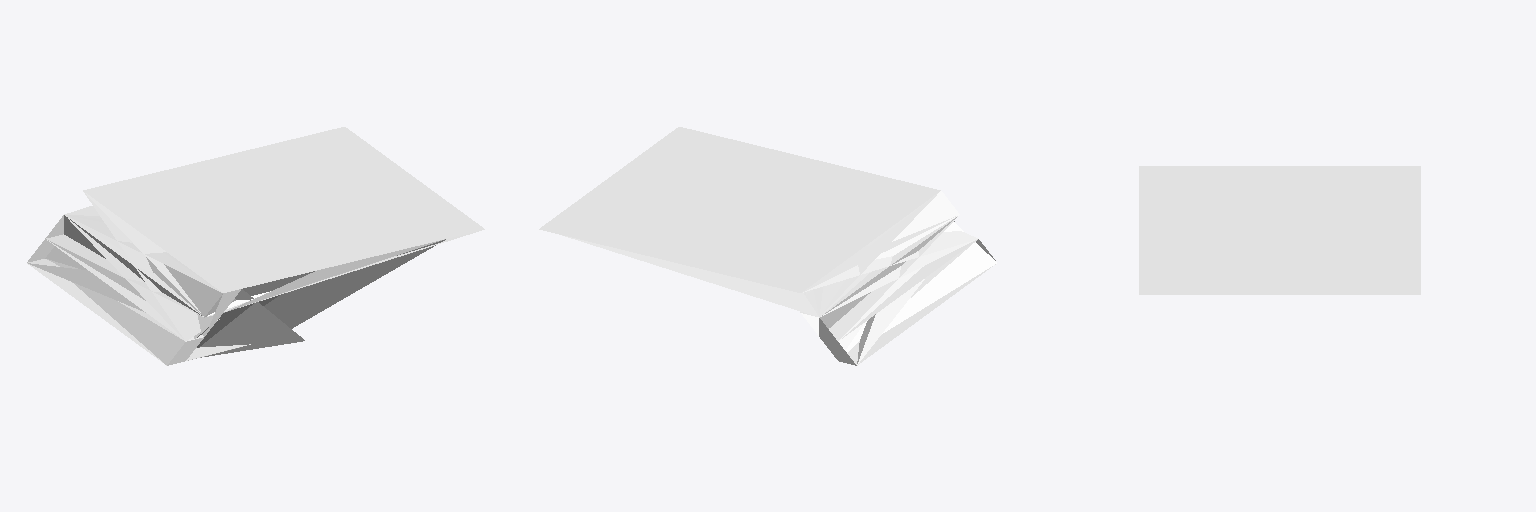
The model's file is REcycling.obj.
3 renders of one model, left to right at view 1: azimuth 30°, elevation 25°; view 2: azimuth 150°, elevation 25°; view 3: azimuth 270°, elevation 25°, orthographic.
Size of the model in its own units: 17 by 4 by 13.